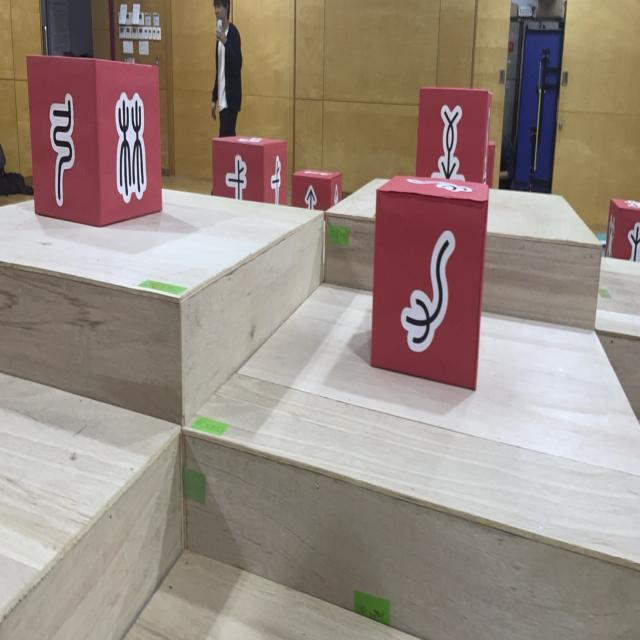12: (303, 184, 317, 209), (332, 184, 340, 205)
2: (114, 90, 147, 205)
3: (48, 92, 76, 208)
6: (626, 222, 640, 260)
7: (429, 103, 465, 182)
9: (225, 154, 248, 200), (270, 156, 282, 207)
fighter: (369, 174, 490, 392), (25, 54, 163, 228), (416, 88, 493, 186), (212, 134, 288, 207), (604, 197, 640, 262), (291, 168, 342, 209)
